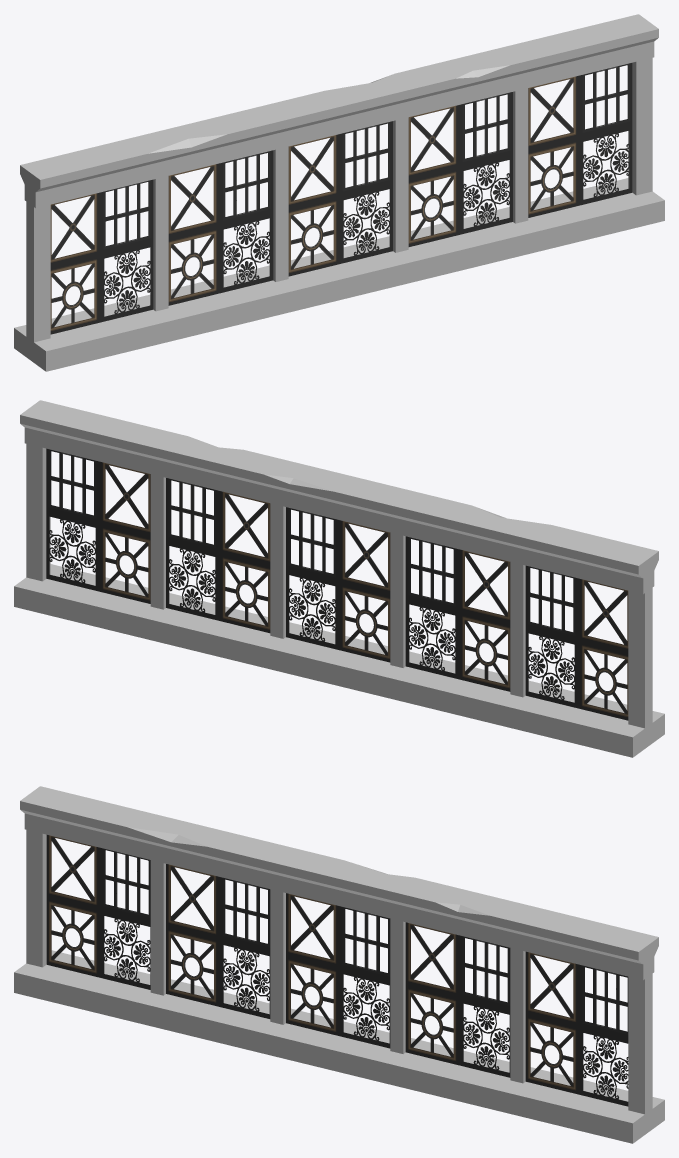
Rendered from SM_Bld_Wall_Balcony_01.fbx.
The picture shows the model from 3 angles, top to bottom: view 1: azimuth 30°, elevation 25°; view 2: azimuth 150°, elevation 25°; view 3: azimuth 330°, elevation 25°; orthographic projection.
Visible parts, largest first — view 1: SM_Bld_Wall_Balcony_01; view 2: SM_Bld_Wall_Balcony_01; view 3: SM_Bld_Wall_Balcony_01.
Part boxes in pixels (x1,y1,x2,y2): SM_Bld_Wall_Balcony_01: (14, 14, 664, 371); SM_Bld_Wall_Balcony_01: (14, 400, 664, 757); SM_Bld_Wall_Balcony_01: (14, 786, 664, 1143).
Bounding box in the file's own units: 250 × 72.39 × 22.5.
